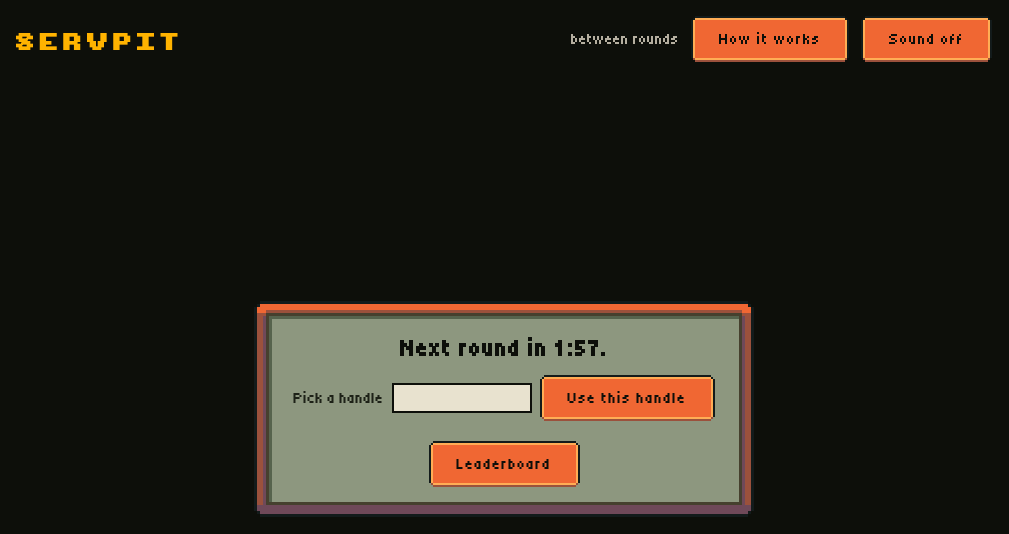
choosing a handle › offers a way back to the field for somebody who wants a different name
Type "cinder" into the field labelled "Pick a handle" at {"x": 462, "y": 398}, box [392,383,532,413]
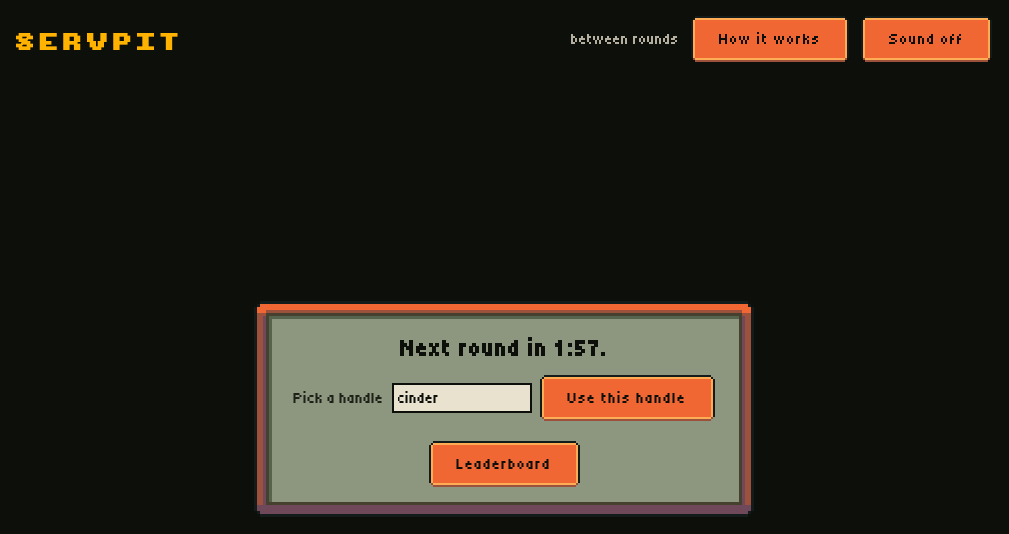
Click the button "Use this handle" at {"x": 627, "y": 398}, box [540,375,714,421]
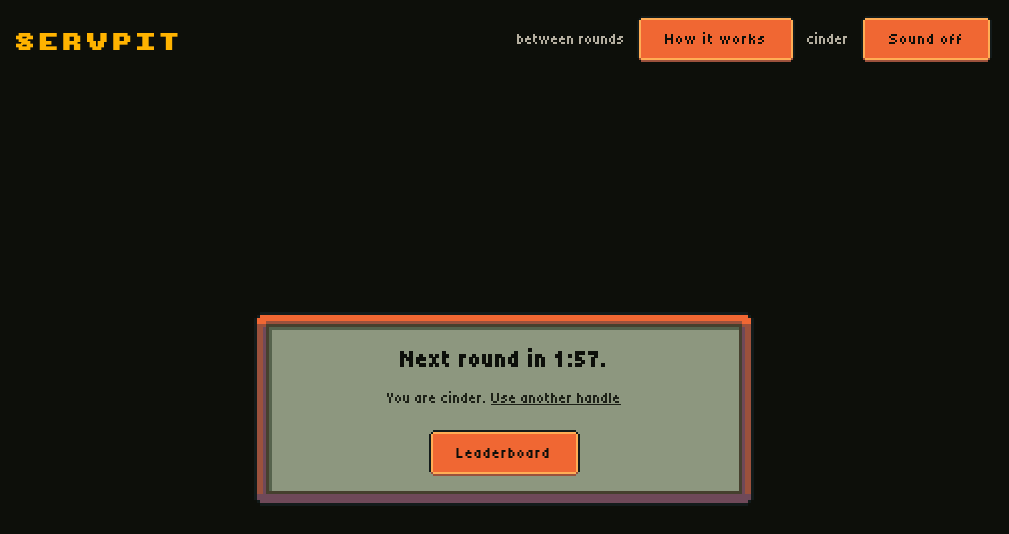
Check: the text "You are cinder." is shown, box [387,386,621,410]
Click the button "Use another handle" at {"x": 556, "y": 398}, box [491,389,621,407]
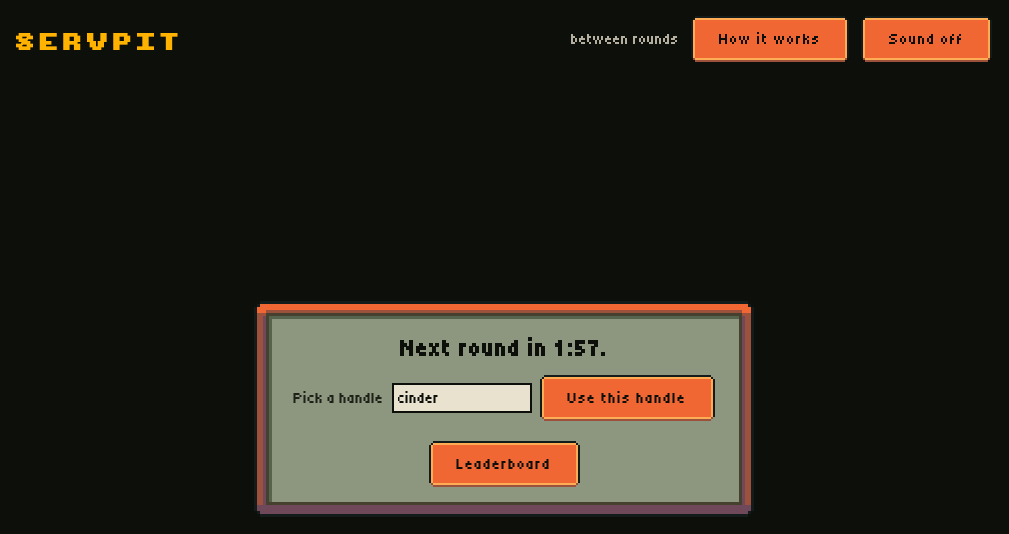
Check: the field labelled "Pick a handle" is shown, box [392,383,532,413]
